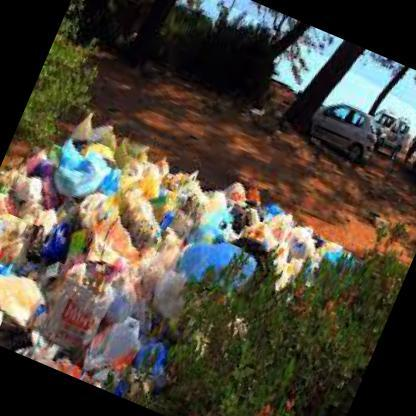Garbage: (0, 180, 187, 398), (74, 146, 242, 346), (10, 115, 167, 324), (193, 192, 337, 294), (0, 138, 63, 339)
